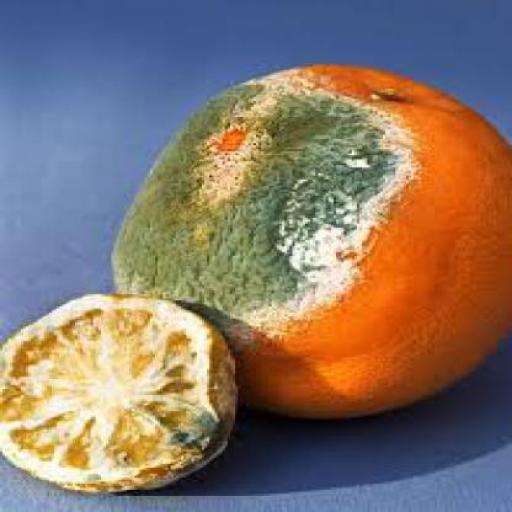biodegradable: (108, 60, 510, 418), (0, 290, 235, 492)
